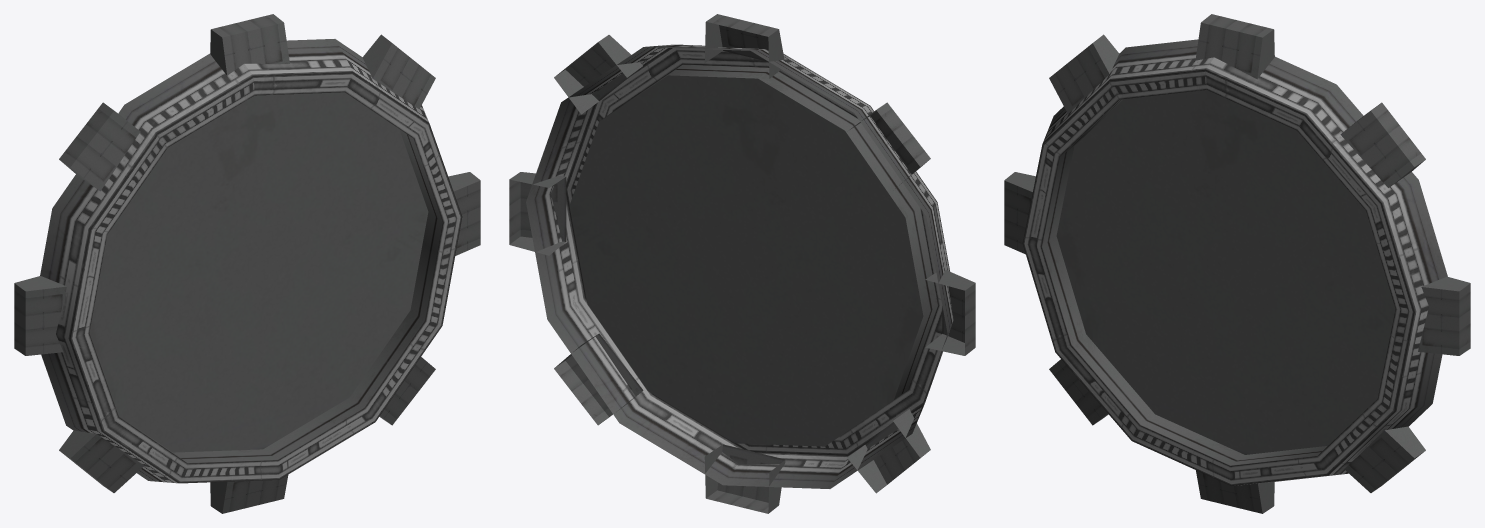
The model's file is Subway_Vents_Ring2_L2.fbx.
3 views of the same model, side by side, from view 1: azimuth 30°, elevation 25°; view 2: azimuth 150°, elevation 25°; view 3: azimuth 330°, elevation 25° (orthographic).
Visible parts, largest first — view 1: polySurface1540; view 2: polySurface1540; view 3: polySurface1540.
Part boxes in pixels (bbox=[...]): polySurface1540: bbox=[14, 14, 480, 513]; polySurface1540: bbox=[509, 14, 975, 513]; polySurface1540: bbox=[1004, 14, 1470, 513].
Size of the model in its own units: 81.73 by 81.73 by 7.65.
